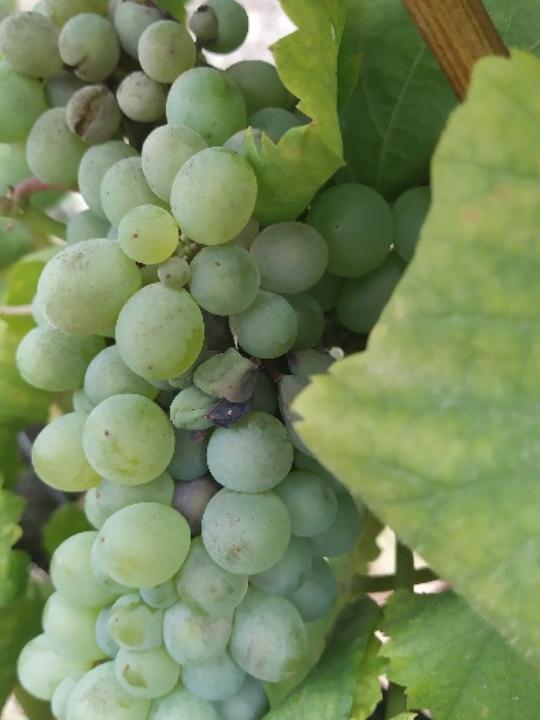grape: (0, 0, 399, 720)
